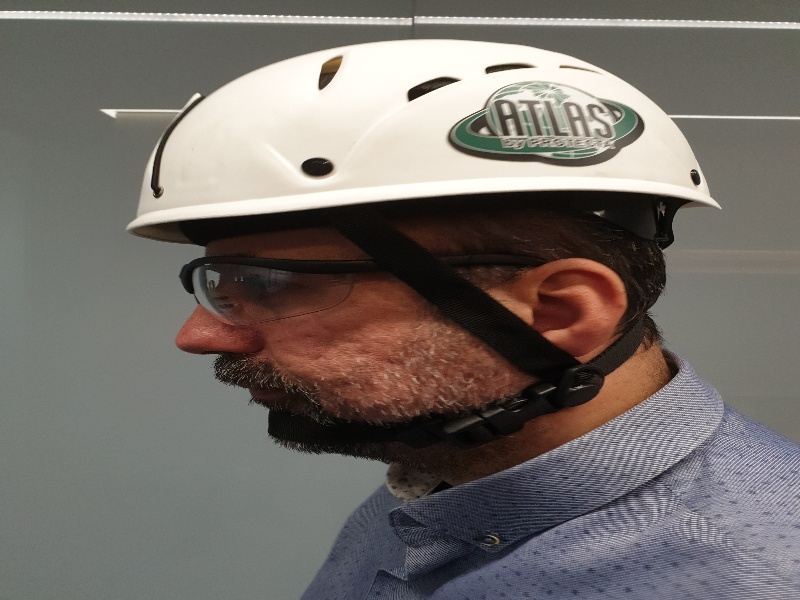Baret: (128, 38, 719, 232)
Gozluk: (183, 250, 550, 326)
